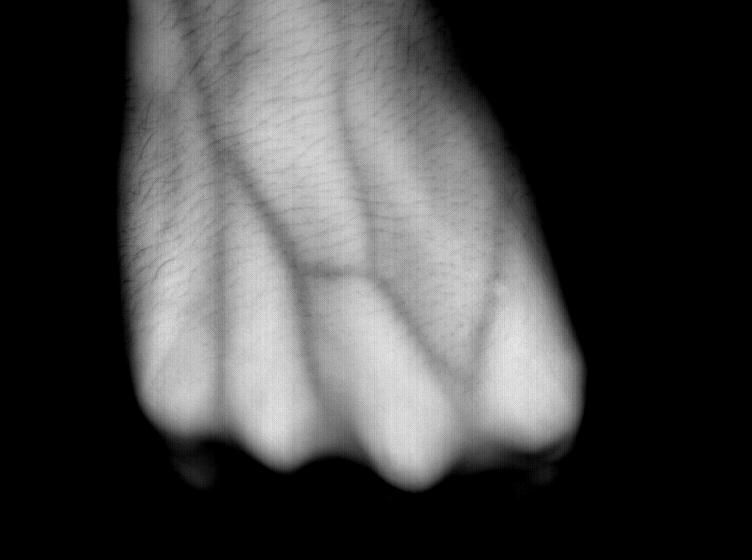Vein: (197, 78, 411, 320)
